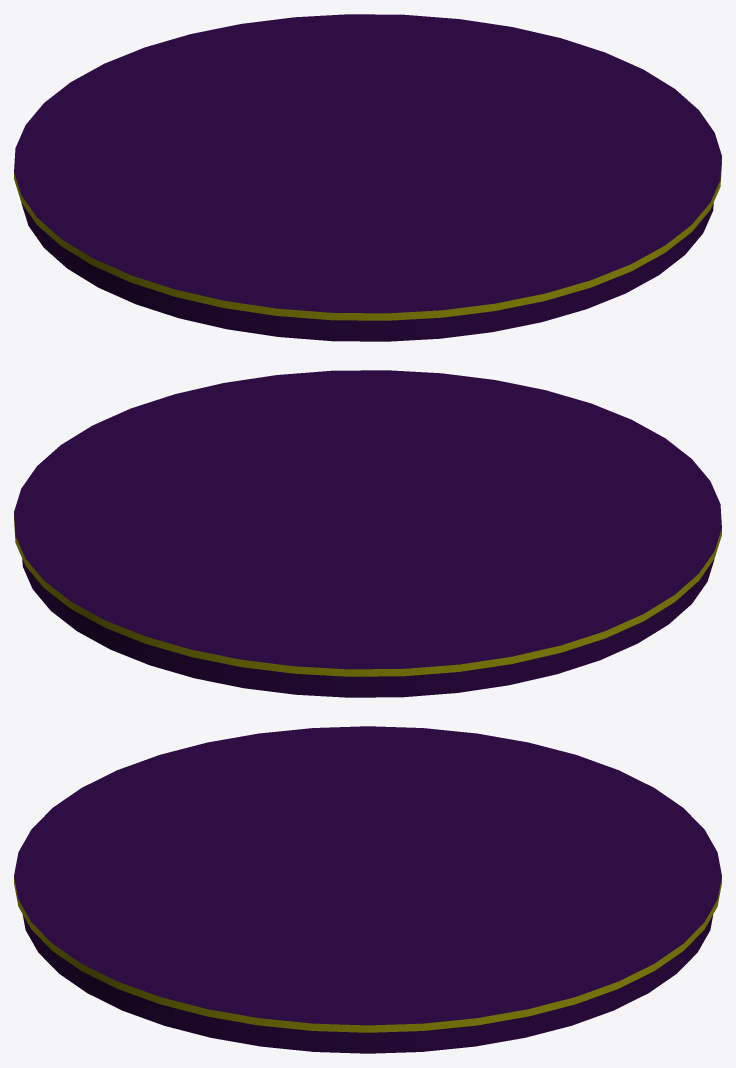
Rendered from round_stage.FBX.
3 renders of one model, top to bottom at view 1: azimuth 30°, elevation 25°; view 2: azimuth 150°, elevation 25°; view 3: azimuth 270°, elevation 25°, orthographic.
Visible parts, largest first — view 1: Cylinder009; view 2: Cylinder009; view 3: Cylinder009.
Boxes of the visible parts, x1,y1,x2,y2 form: Cylinder009: (14,14,721,341); Cylinder009: (14,370,721,697); Cylinder009: (14,726,721,1053).
Size of the model in its own units: 245 by 12 by 245.
